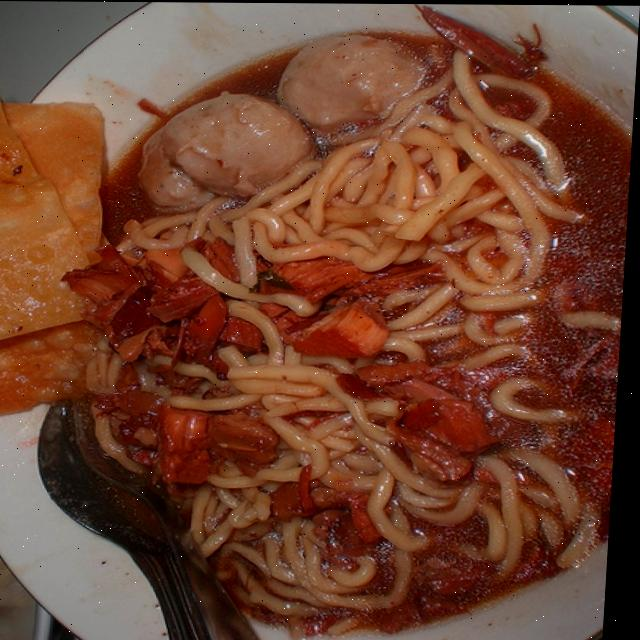面条主食: (25, 60, 616, 591)
